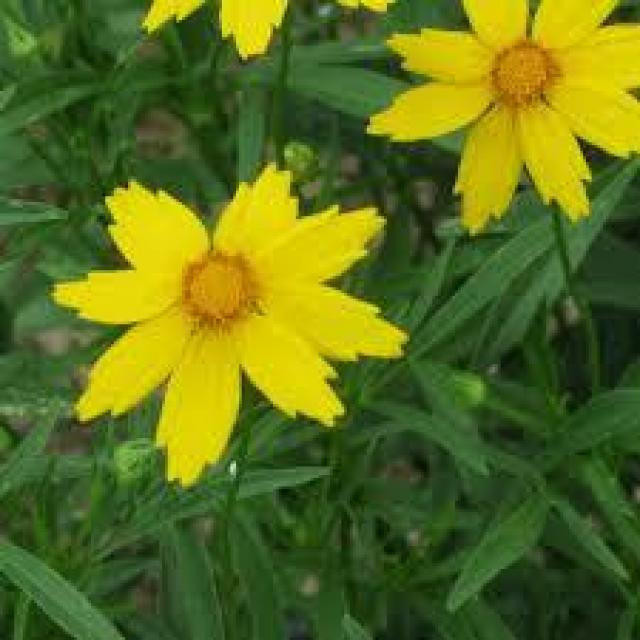organic waste: (51, 166, 410, 485), (356, 13, 632, 237)
